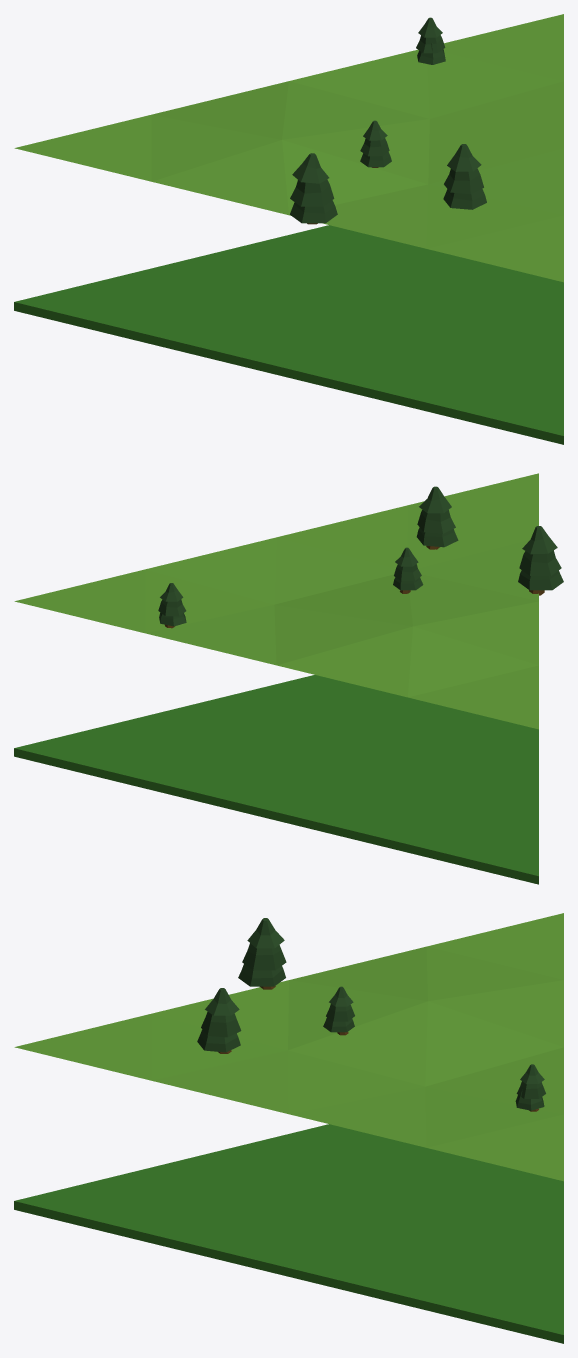
3 views of the same model, one above another, from view 1: azimuth 30°, elevation 25°; view 2: azimuth 150°, elevation 25°; view 3: azimuth 270°, elevation 25° (orthographic). The views are drawn at different scales.
Visible parts, largest first — view 1: top.001, ground.001, tree3, tree2, tree4, tree1; view 2: top.001, ground.001, tree3, tree2, tree4, tree1; view 3: top.001, ground.001, tree3, tree2, tree4, tree1.
Boxes of the visible parts, left/top/right/bottom form: top.001: left=14, top=14, right=563, bottom=282; ground.001: left=14, top=225, right=563, bottom=444; tree3: left=290, top=153, right=337, bottom=224; tree2: left=443, top=144, right=486, bottom=209; tree4: left=360, top=120, right=391, bottom=167; tree1: left=416, top=17, right=445, bottom=64; top.001: left=14, top=473, right=538, bottom=729; ground.001: left=14, top=675, right=538, bottom=884; tree3: left=518, top=526, right=563, bottom=595; tree2: left=416, top=486, right=458, bottom=549; tree4: left=393, top=547, right=423, bottom=593; tree1: left=158, top=583, right=186, bottom=628; top.001: left=14, top=913, right=563, bottom=1181; ground.001: left=14, top=1124, right=563, bottom=1343; tree3: left=238, top=918, right=286, bottom=989; tree2: left=197, top=988, right=241, bottom=1053; tree4: left=323, top=986, right=354, bottom=1035; tree1: left=515, top=1064, right=545, bottom=1111.
Bounding box in the file's own units: 1 × 0.3984 × 0.866.
